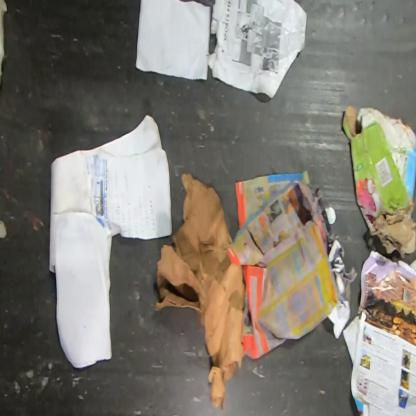cardboard: (154, 172, 245, 412), (342, 103, 415, 260)
